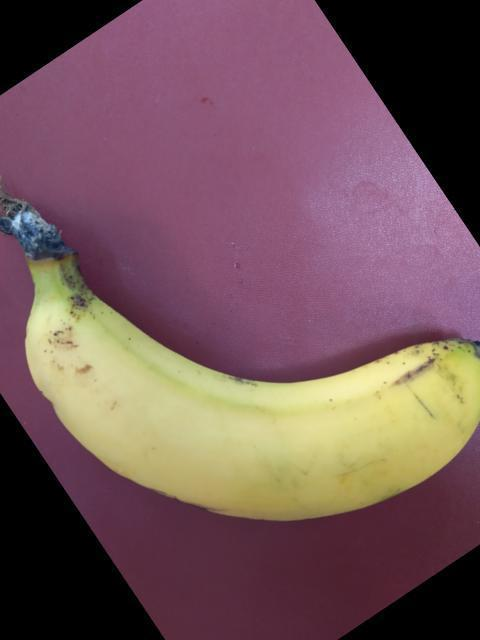freshripe: (32, 279, 475, 548)
